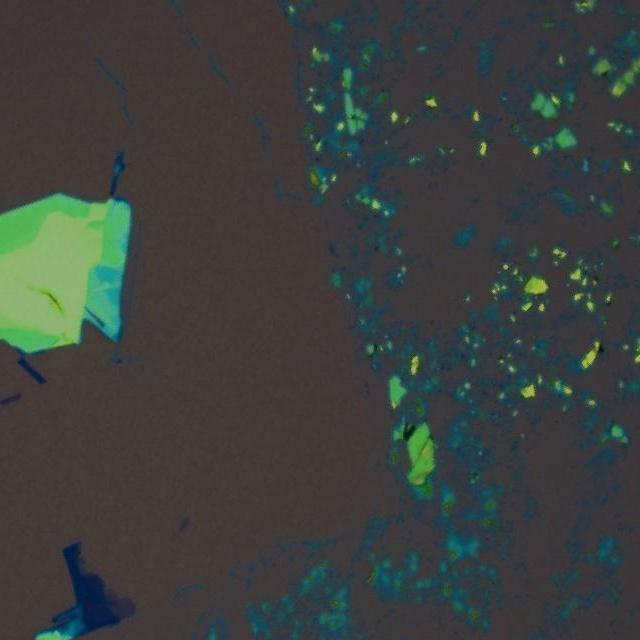monolayer-eWW4: (104, 586, 134, 619), (76, 555, 92, 575)
